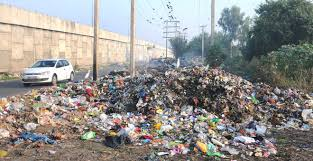garbage: (76, 80, 262, 151), (2, 97, 253, 146), (149, 71, 260, 159)
